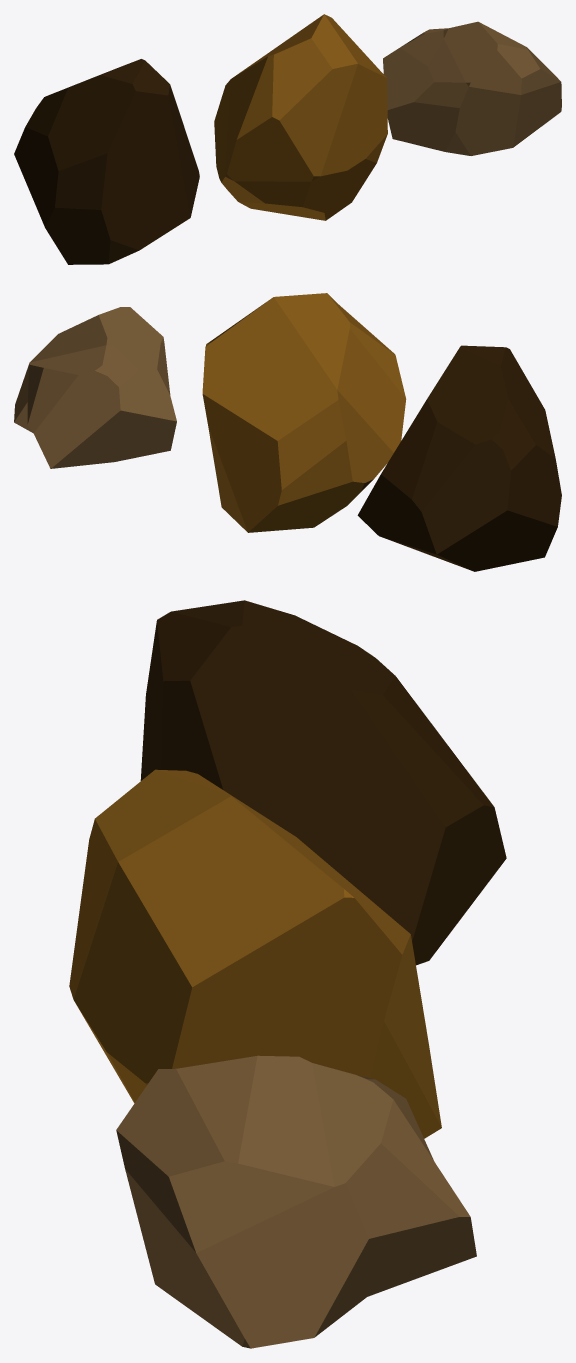
File: stone.fbx
3 views of the same model, one above another, from view 1: azimuth 30°, elevation 25°; view 2: azimuth 150°, elevation 25°; view 3: azimuth 270°, elevation 25° (orthographic). The views are drawn at different scales.
Parts seen in each view (by area): view 1: Sphere, Sphere.001, Sphere.002; view 2: Sphere.001, Sphere, Sphere.002; view 3: Sphere.001, Sphere.002, Sphere.
Boxes of the visible parts, <box> form: Sphere: <box>14,59,199,264</box>; Sphere.001: <box>214,14,387,220</box>; Sphere.002: <box>383,21,561,155</box>; Sphere.001: <box>202,293,406,532</box>; Sphere: <box>357,345,561,571</box>; Sphere.002: <box>14,307,176,468</box>; Sphere.001: <box>69,769,441,1138</box>; Sphere.002: <box>116,1055,476,1348</box>; Sphere: <box>140,600,506,965</box>.
Bounding box in the file's own units: 97.4 × 35.88 × 35.67.
Materials: 1 (1 with a texture image).
